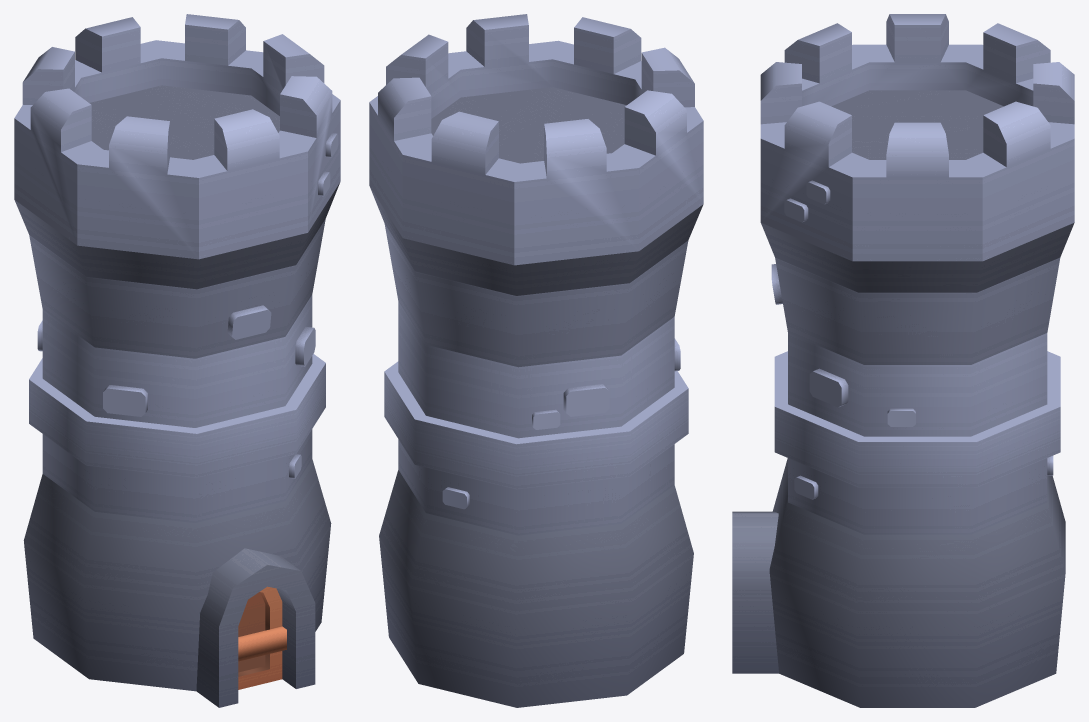
Rendered from tower-complete-small_lev2.glb.
3 views of the same model, side by side, from view 1: azimuth 30°, elevation 25°; view 2: azimuth 150°, elevation 25°; view 3: azimuth 270°, elevation 25° (orthographic). The views are drawn at different scales.
Parts seen in each view (by area): view 1: tower-complete-small_lev2; view 2: tower-complete-small_lev2; view 3: tower-complete-small_lev2.
Part boxes in pixels (box(x1,y1,x2,y2)): tower-complete-small_lev2: box(14, 14, 340, 707); tower-complete-small_lev2: box(369, 14, 703, 707); tower-complete-small_lev2: box(732, 14, 1074, 707).
Size of the model in its own units: 3.16 by 6.4 by 3.45.
1 material, 1 textured.
